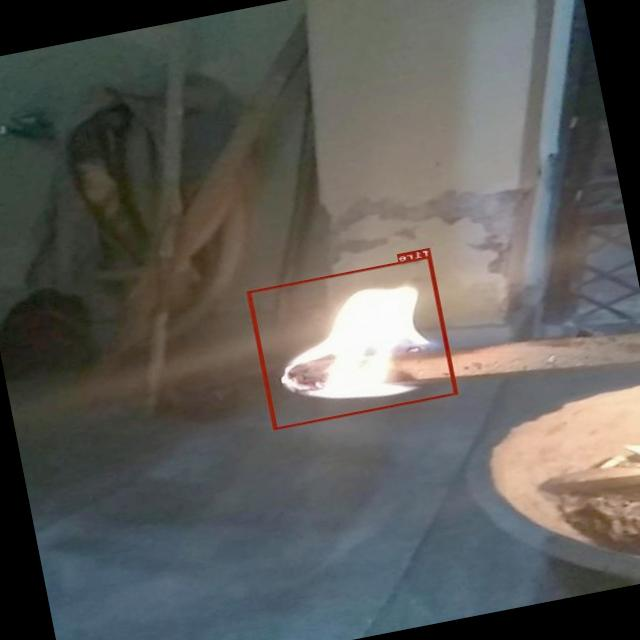fire: (248, 255, 459, 429)
